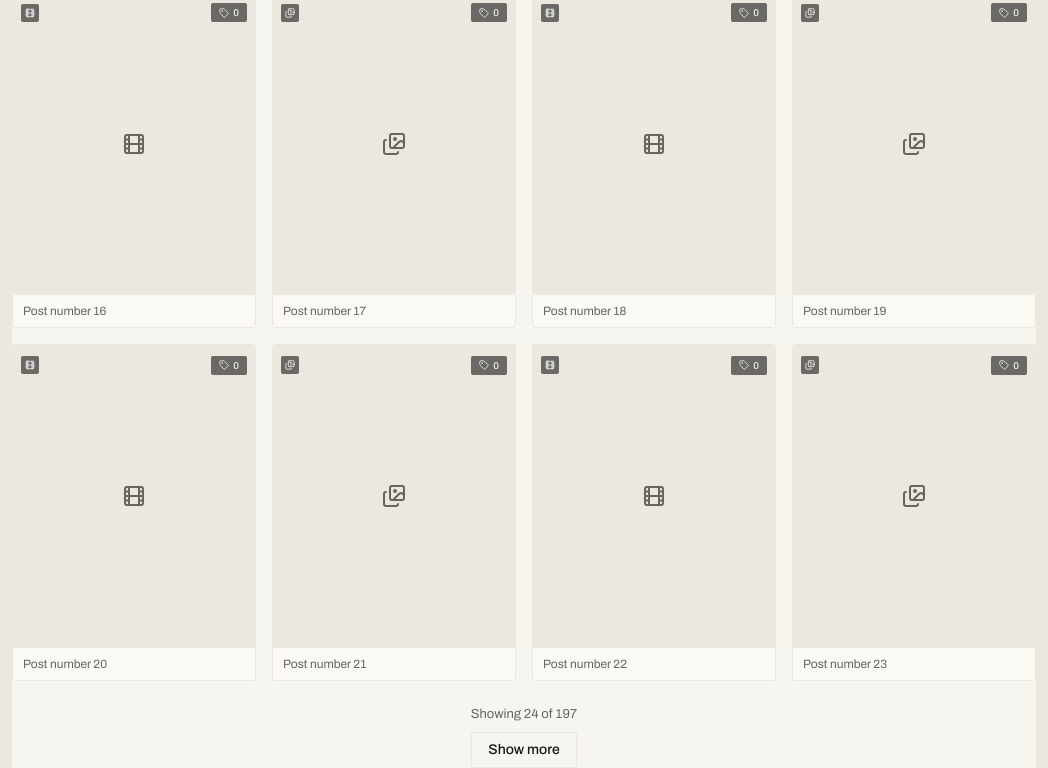
Test: Content › paging the grid › shows more without losing what was already there
(page scrolled)
Click the button "Show more".
click(524, 750)  # box [471, 732, 577, 767]
(page scrolled)
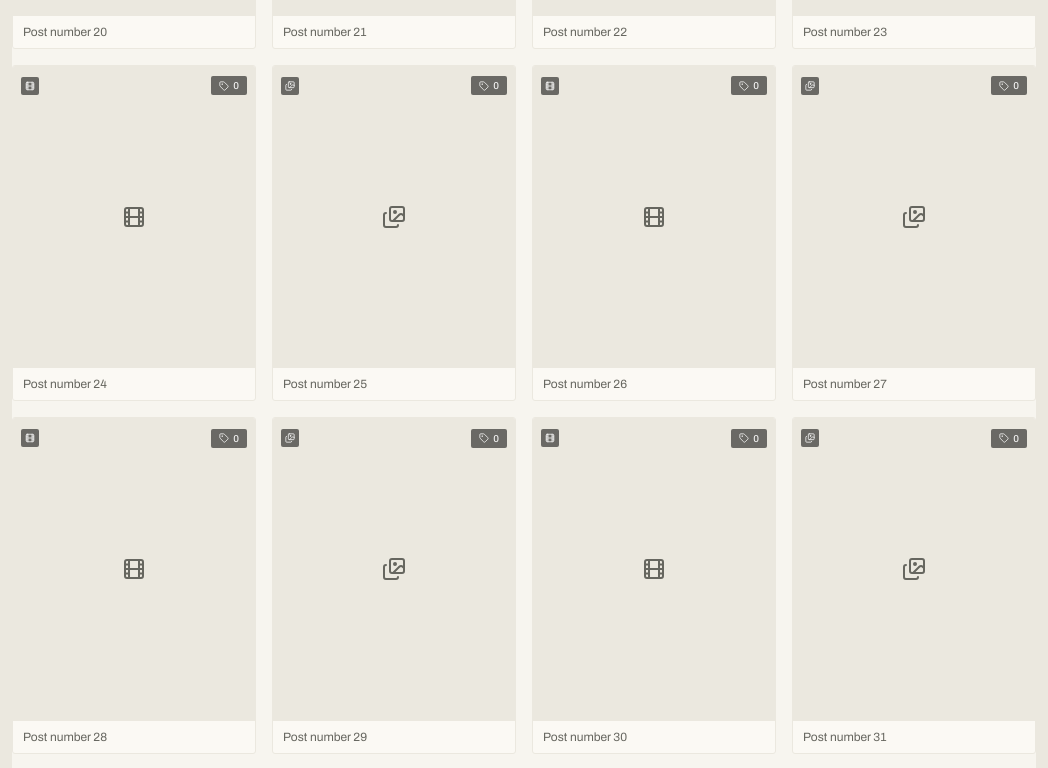
Check: the text "Post number 24" is shown, box [23, 377, 107, 391]
